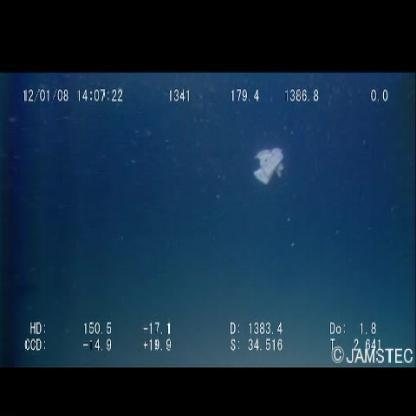Rác: (250, 143, 288, 187)
